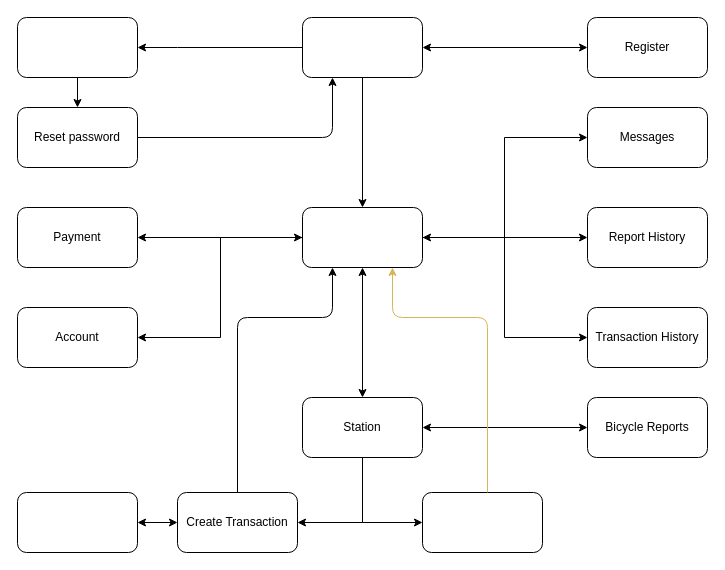
Some shapes in this 725 by 570 pixel diagram are drawn without their labels. Each missing label, with the centre of its shape:
Finish Transaction: the point at 482,522
Login: the point at 362,47
Map: the point at 362,237
Select Discount: the point at 77,522
Send reset code: the point at 77,47
